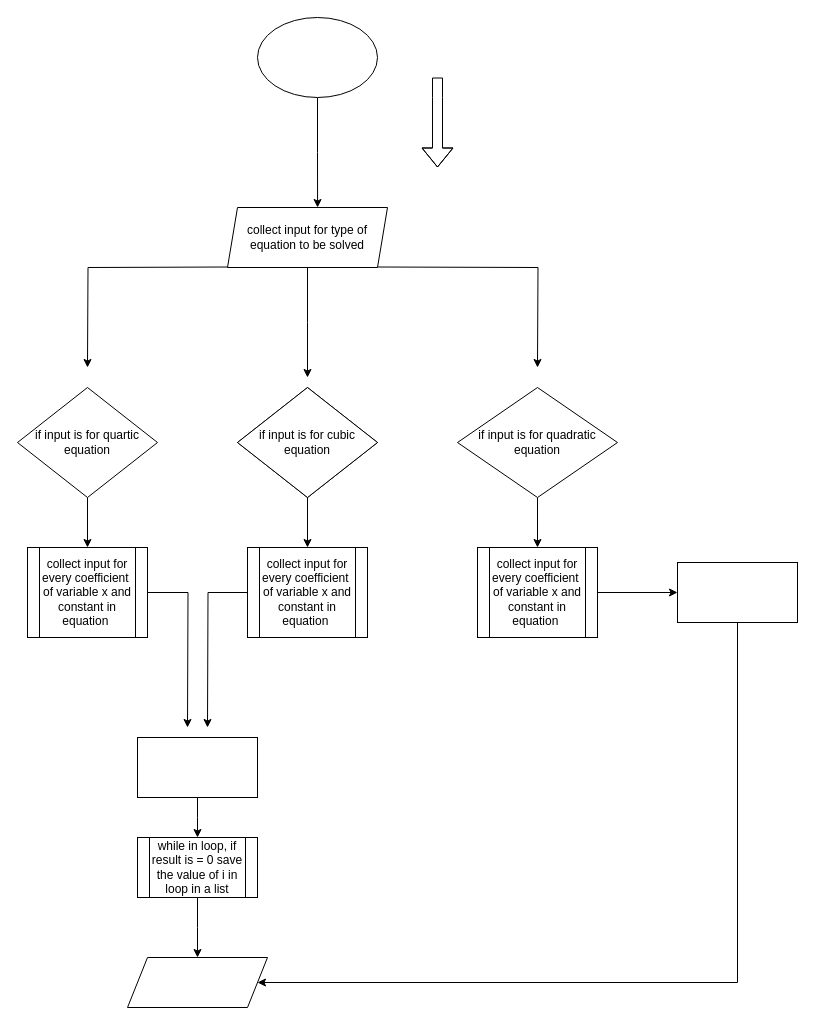
Image size: 815x1025. Some labels were removed from this diagram. Here are the shapes that lost their labels. From the top down, the box of each, then its label:
(256, 16, 378, 98): Start
(676, 562, 798, 622): using almighty formula find roots of equation
(136, 736, 258, 798): loop it to run through a range of 1-101 and get results
(126, 956, 268, 1008): print list as roots of equation
